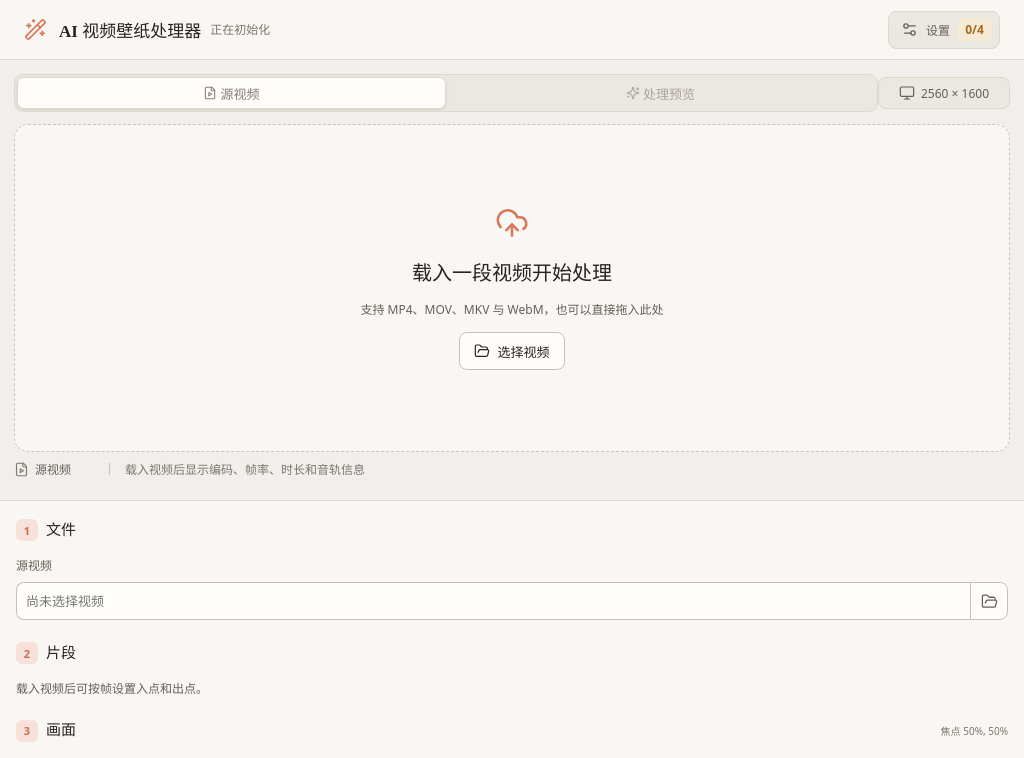
Test case: desktop processing controls › opens the existing consent dialog instead of starting when RIFE is missing
Click the button named "选择源视频".
click(989, 601)  # box [970,582,1008,620]
(page scrolled)
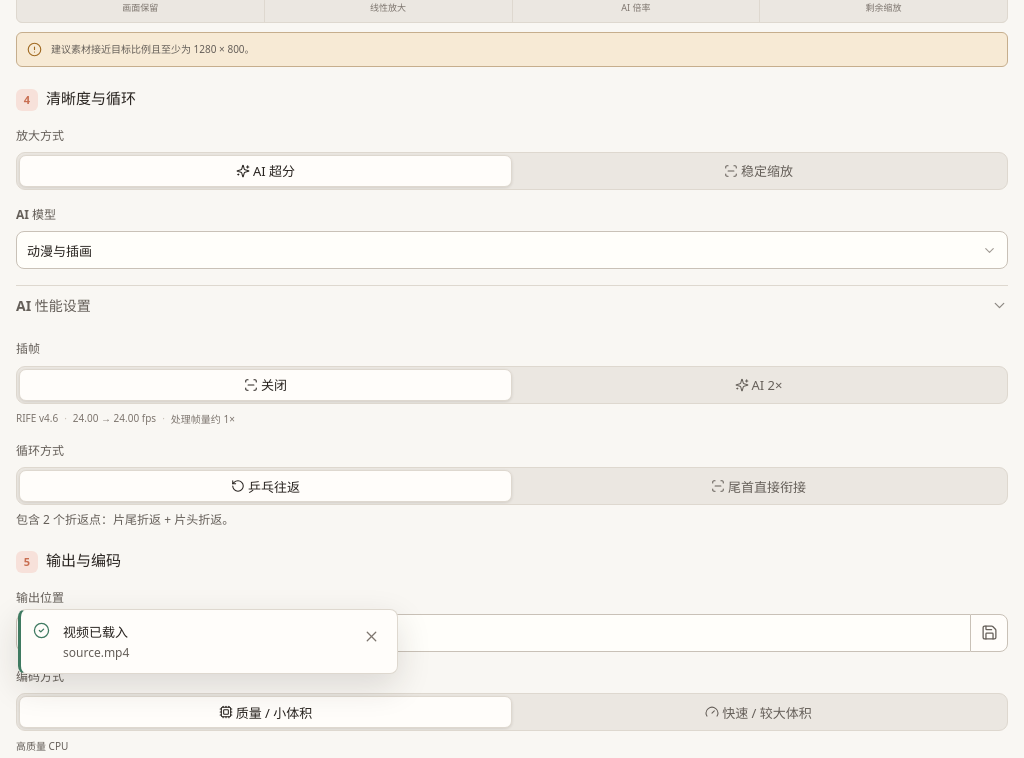
Click the button "AI 2×".
click(758, 385)  # box [512,369,1005,401]
(page scrolled)
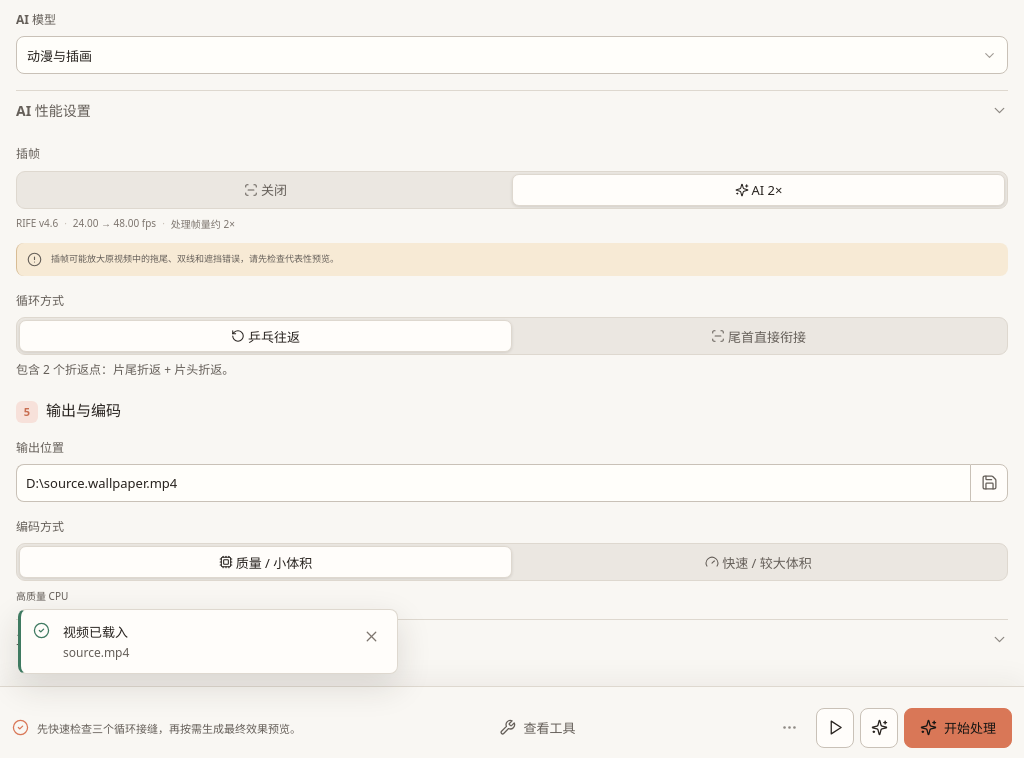
Click the button named "最终效果预览".
click(879, 728)  # box [860,708,898,748]
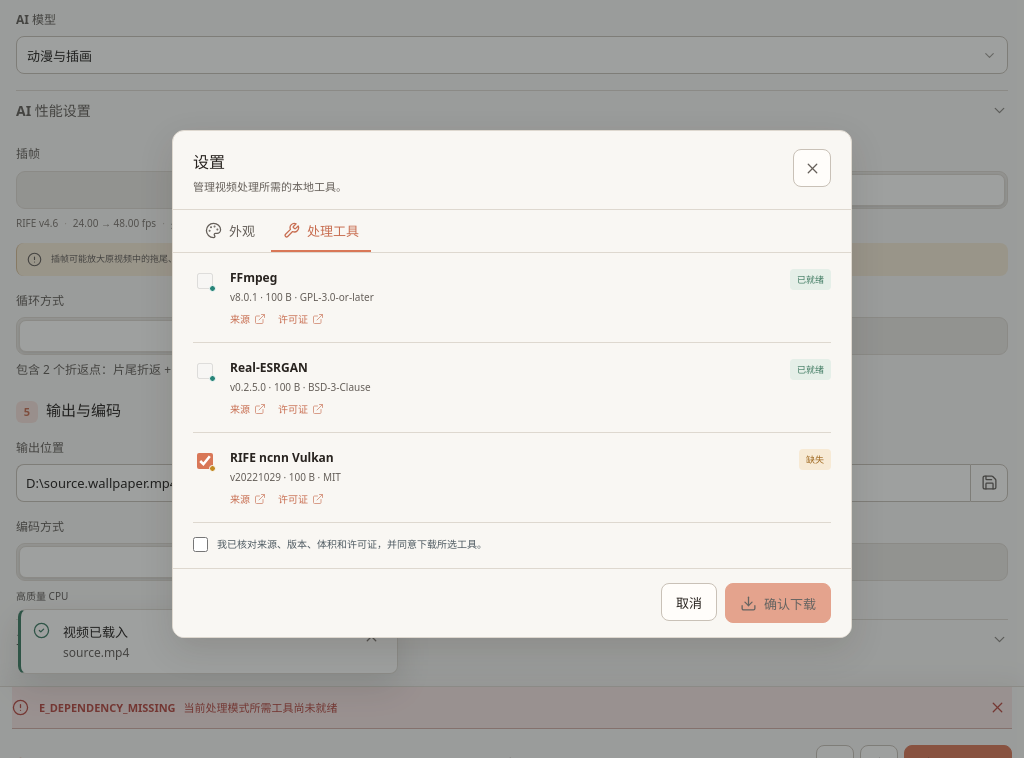
Check: the dialog "处理工具" is shown, box [172,130,852,638]
Check: the text "RIFE ncnn Vulkan" is shown, box [230,449,334,466]
Check: the checkbox next to "RIFE ncnn Vulkan" is checked, box [196,452,212,468]
